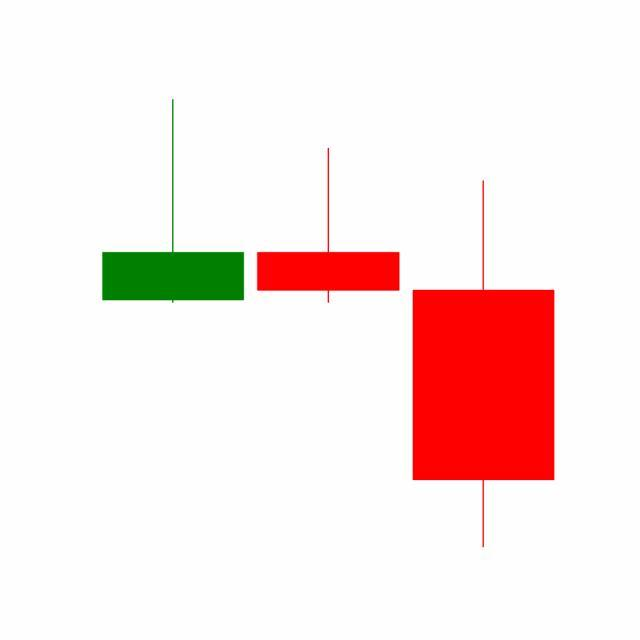Gravestone Doji: (250, 146, 407, 306)
